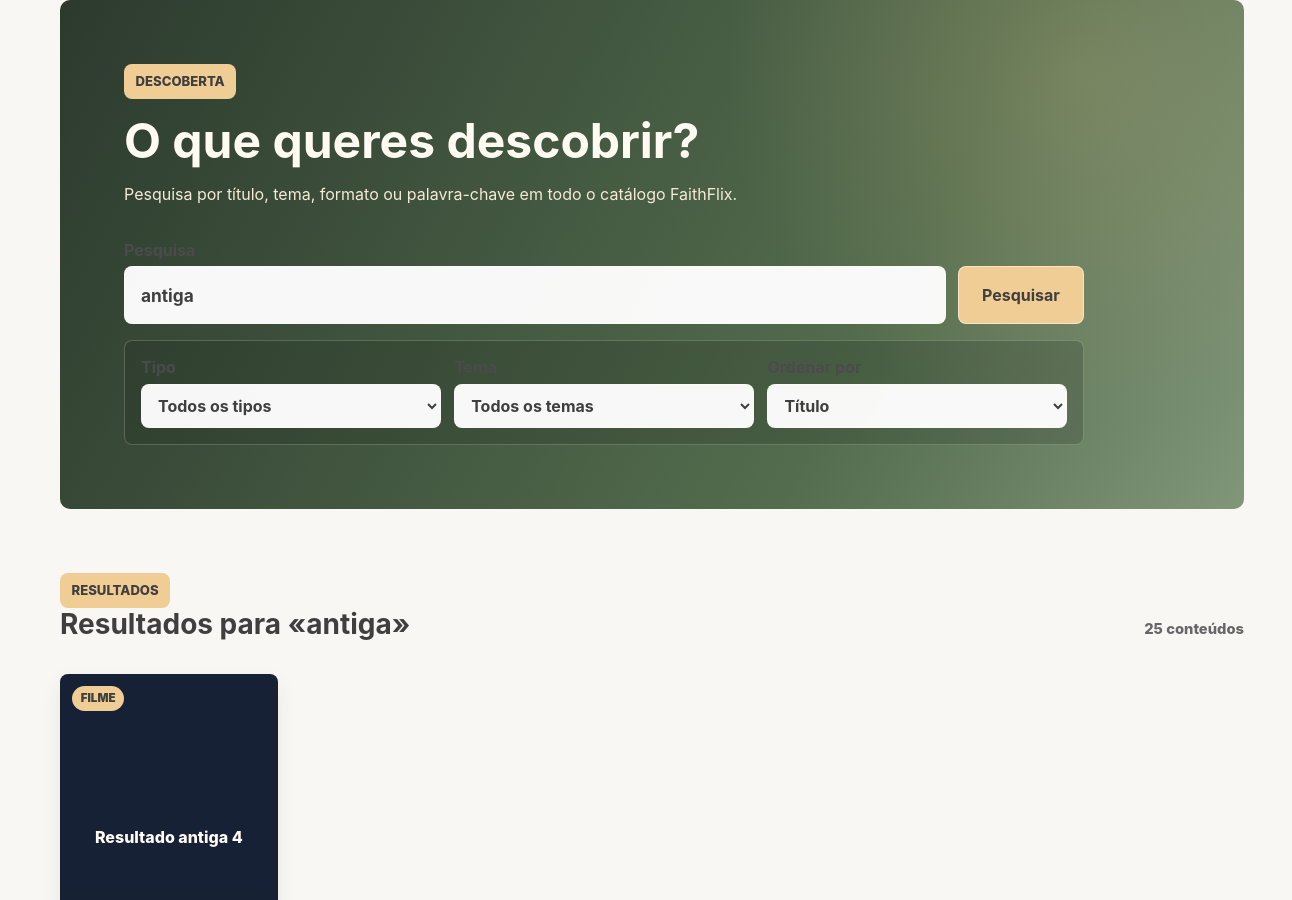
Test: SearchPage › submissão canónica reinicia a página
Replace the text in the field labelled "Pesquisa" with "nova pesquisa" at (535, 295), box [124, 266, 946, 324]
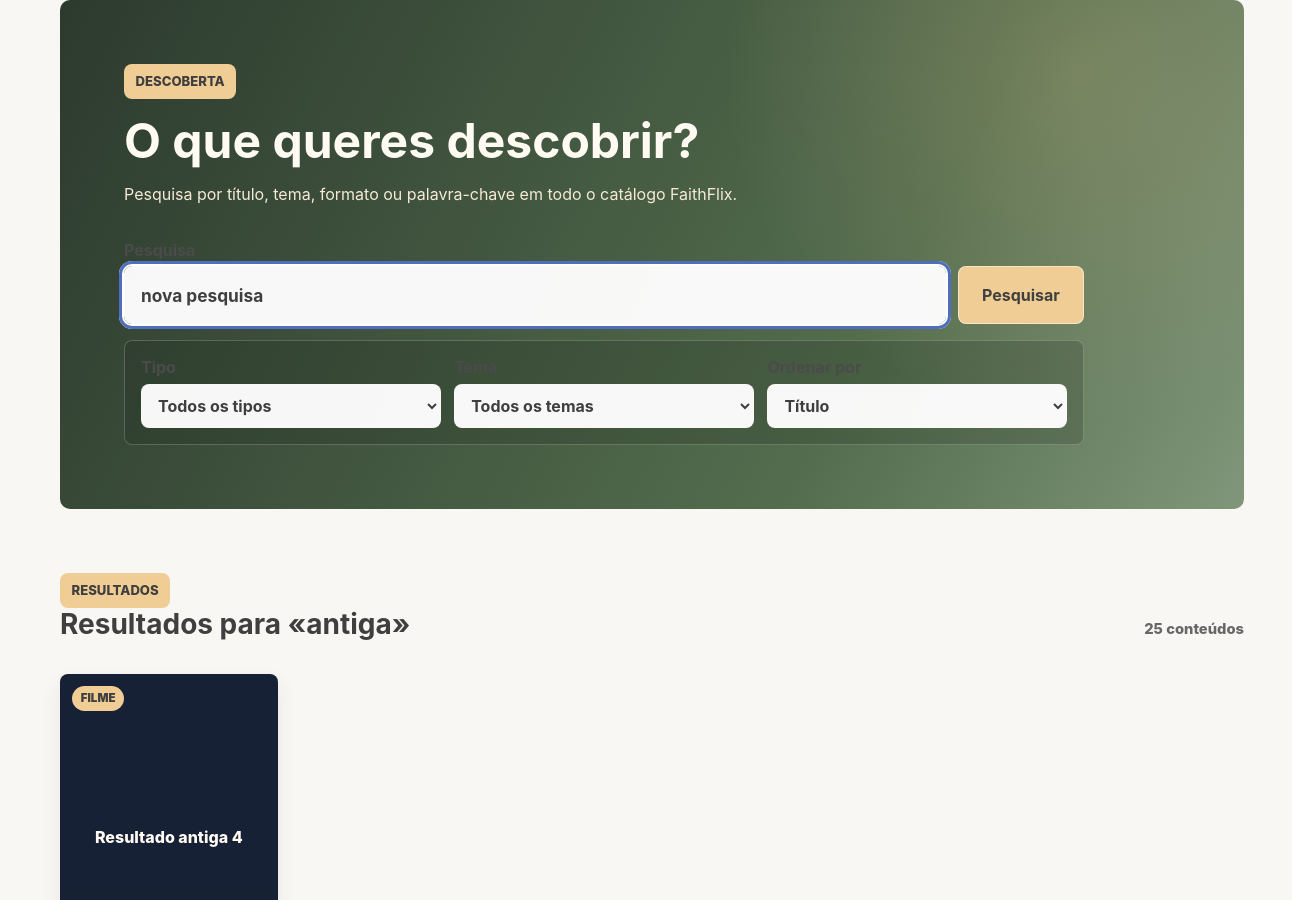
Click the button "Pesquisar" at (1021, 295), box [958, 266, 1084, 324]
(page scrolled)
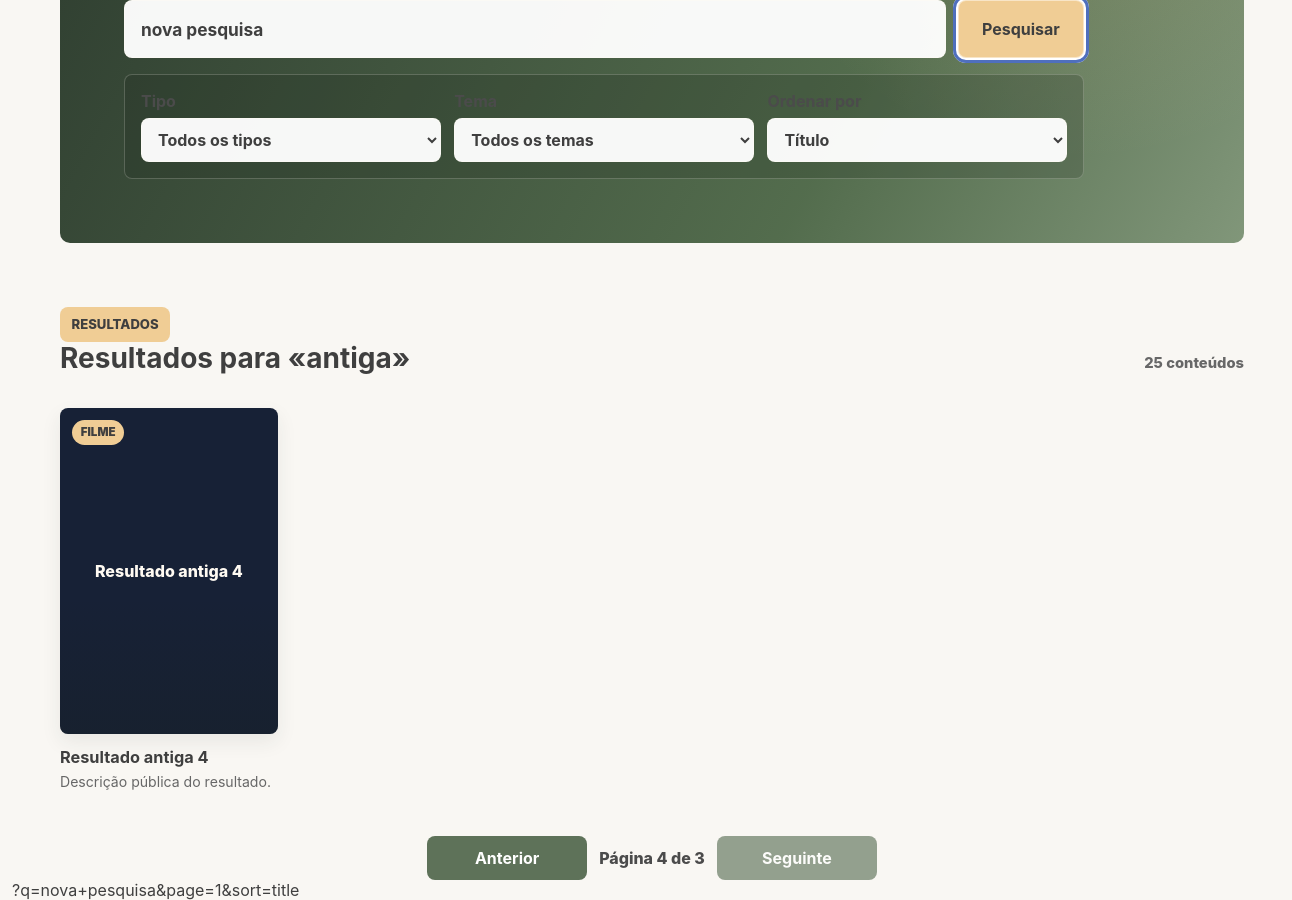
Check: the text with test id "search-location" shows "q=nova+pesquisa&page=1", box [12, 880, 299, 899]
